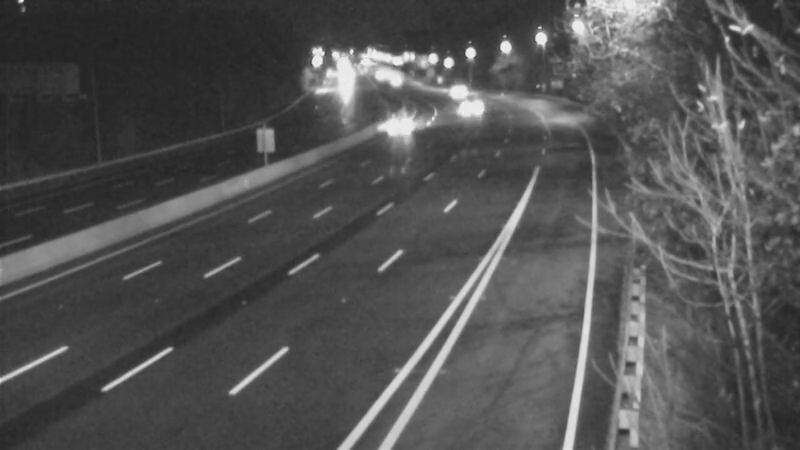vehicle: (353, 52, 403, 102), (367, 58, 417, 108), (434, 64, 484, 114), (448, 81, 498, 131), (384, 97, 434, 147), (318, 57, 368, 107)
